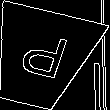P_S: (11, 29, 71, 88)
